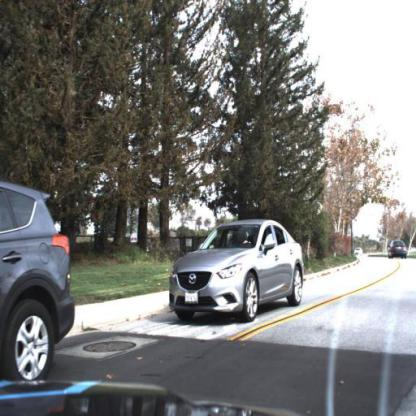car: (2, 180, 76, 387), (169, 217, 305, 325)
